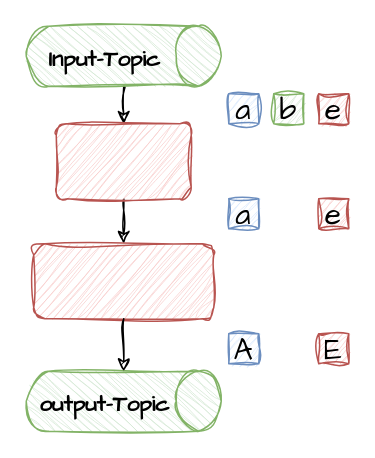
Some shapes in this 375 by 458 pixel diagram are drawn without their labels. Here are the shapes that lost their labels. From the top down, the centre of each, then its label:
At point (123, 160): "filter()".
At point (123, 280): "mapValues()".
